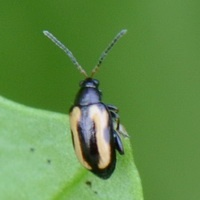insect: (43, 29, 128, 178)
